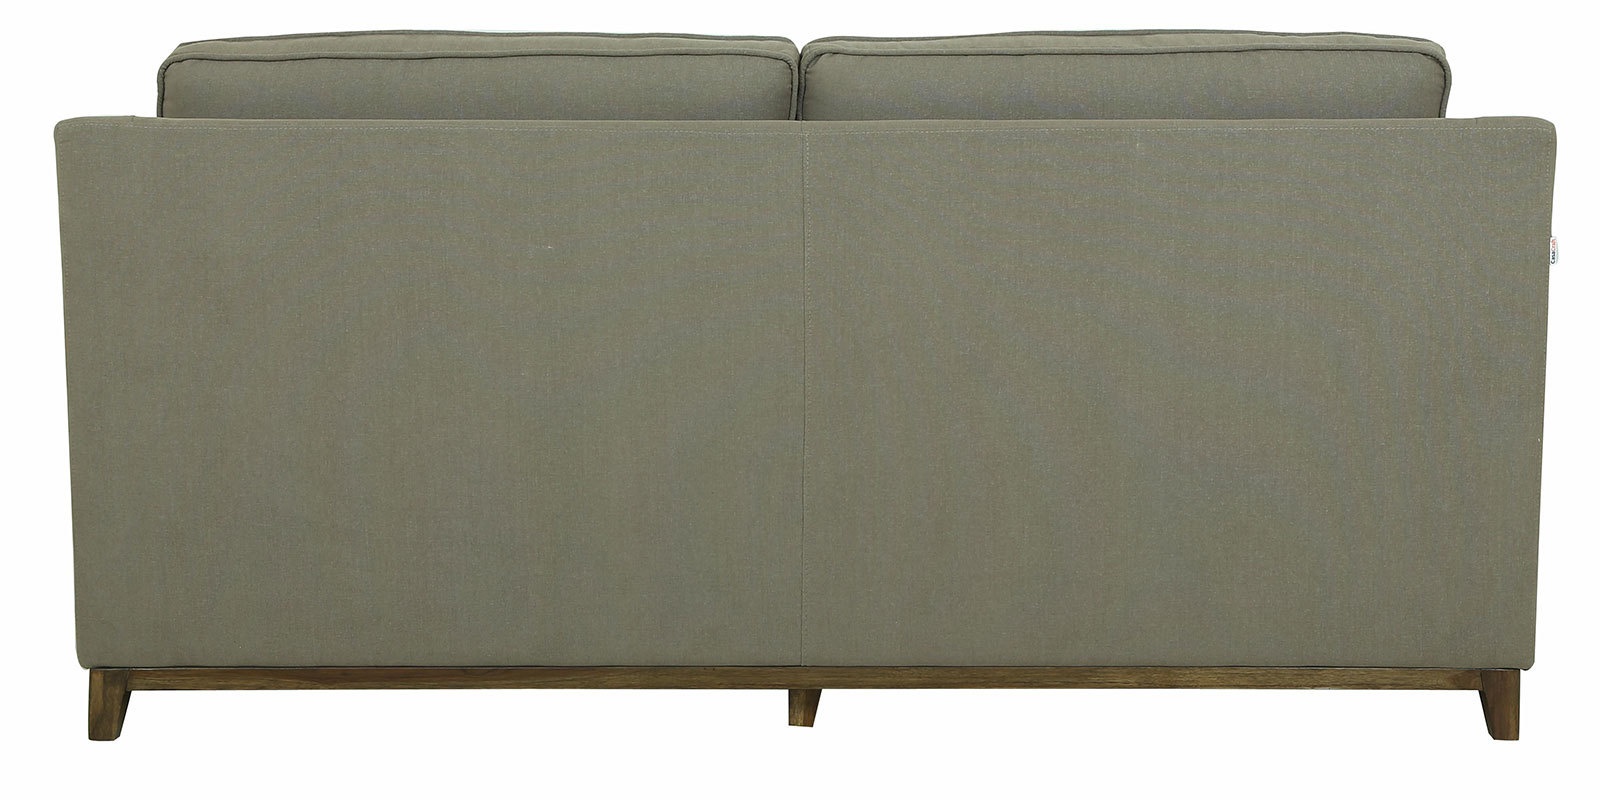Diego Three Seater Sofa in Sandy Colour by CasaCraft: (47, 16, 1560, 771)
